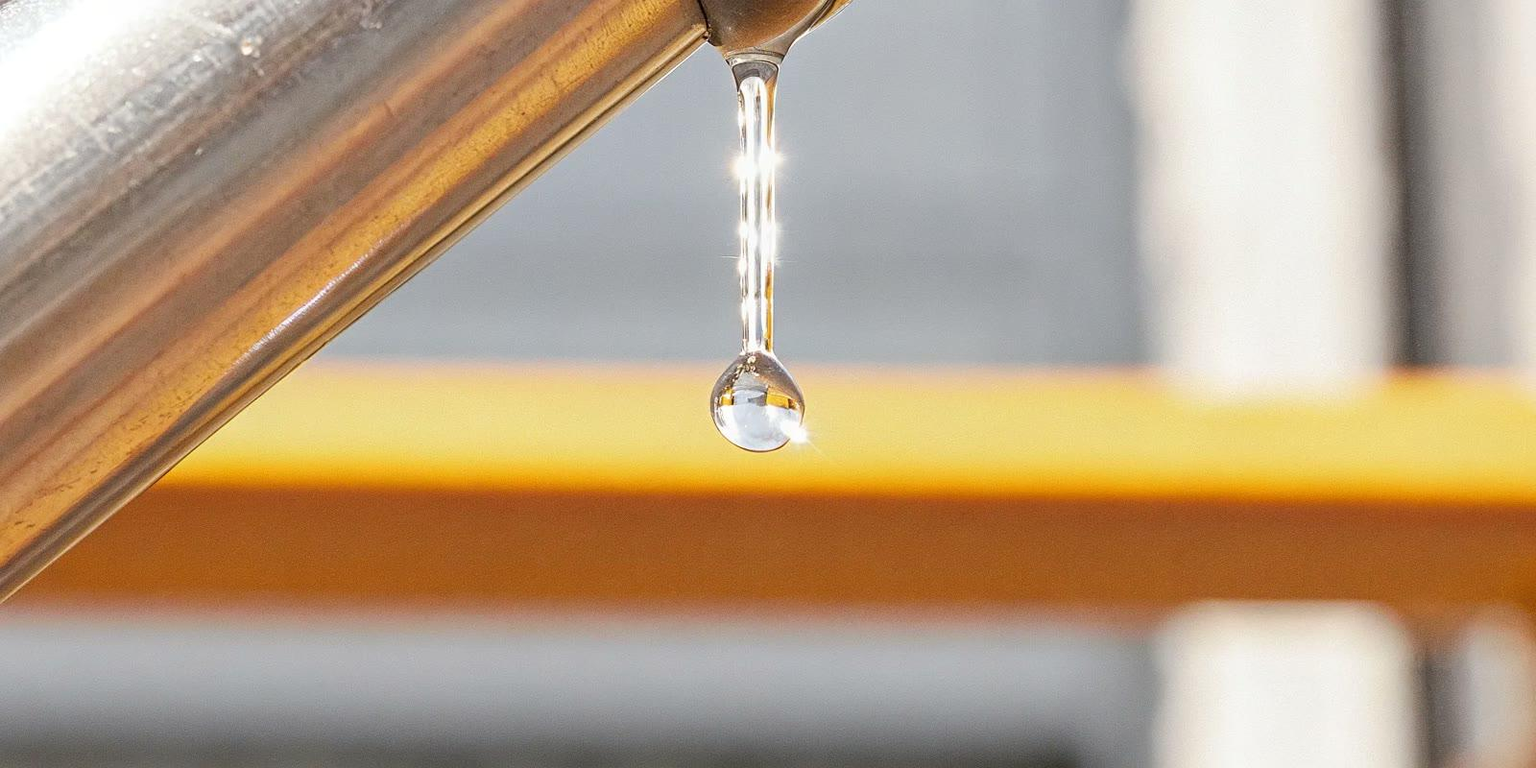water drop: (709, 0, 822, 451)
